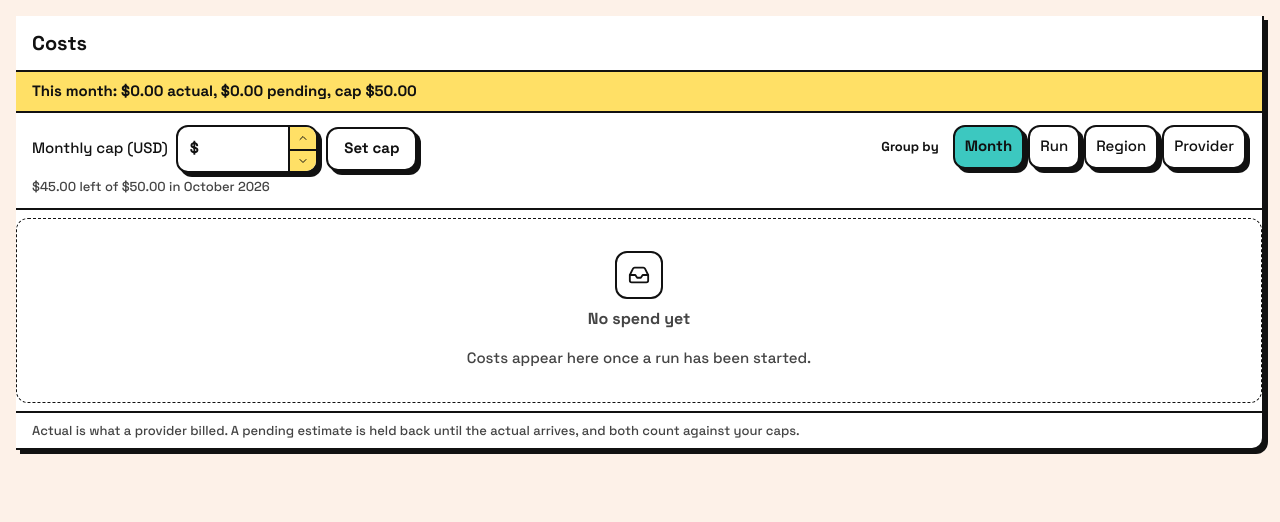
it: Costs page › validates the monthly cap like a run cap
Type "5000000" into the number field labelled "Monthly cap (USD)" at (244, 148), box [199,126,288,170]
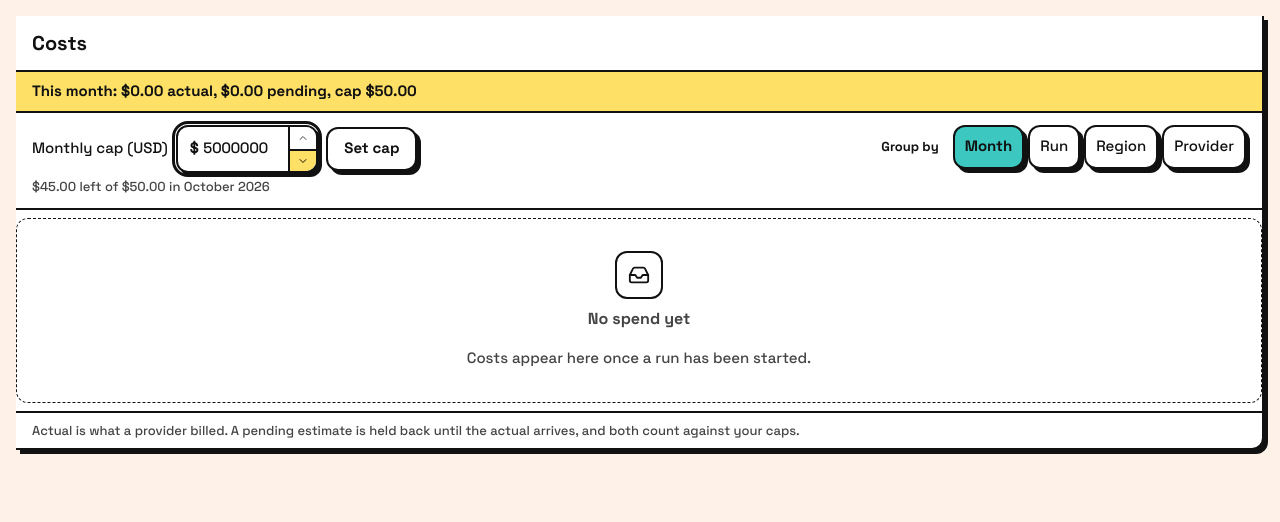
Click the button "Set cap" at (372, 148), box [326,126,418,170]
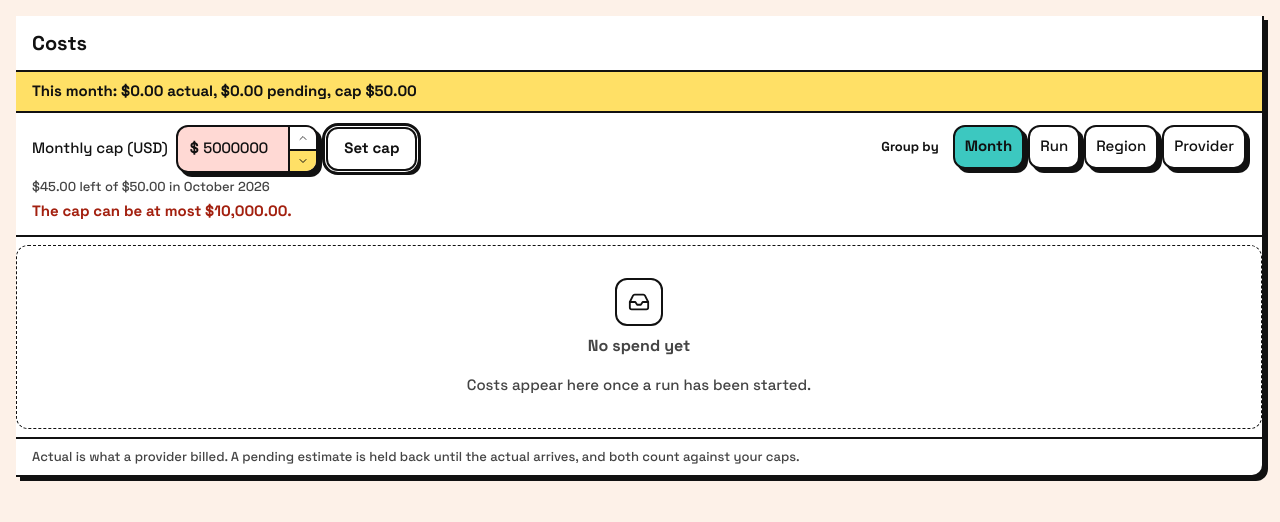
Expected: the text "The cap can be at most $10,000.00." is shown, [32,200,292,222]
Replace the text in the number field labelled "Monthly cap (USD)" with "0" at (244, 148), box [199,126,288,170]
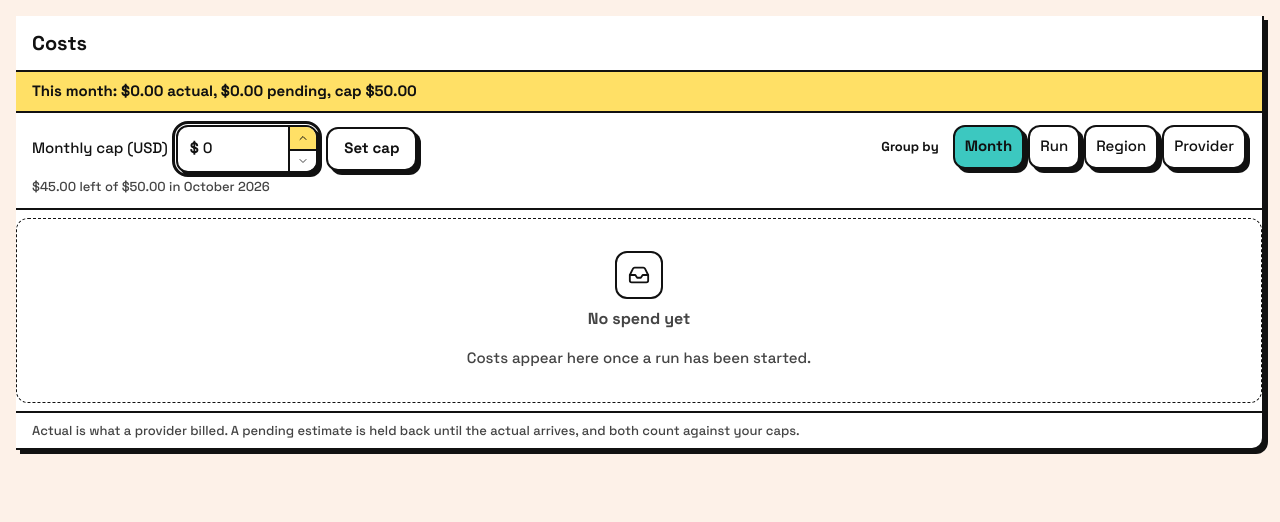
Click the button "Set cap" at (372, 148), box [326,126,418,170]
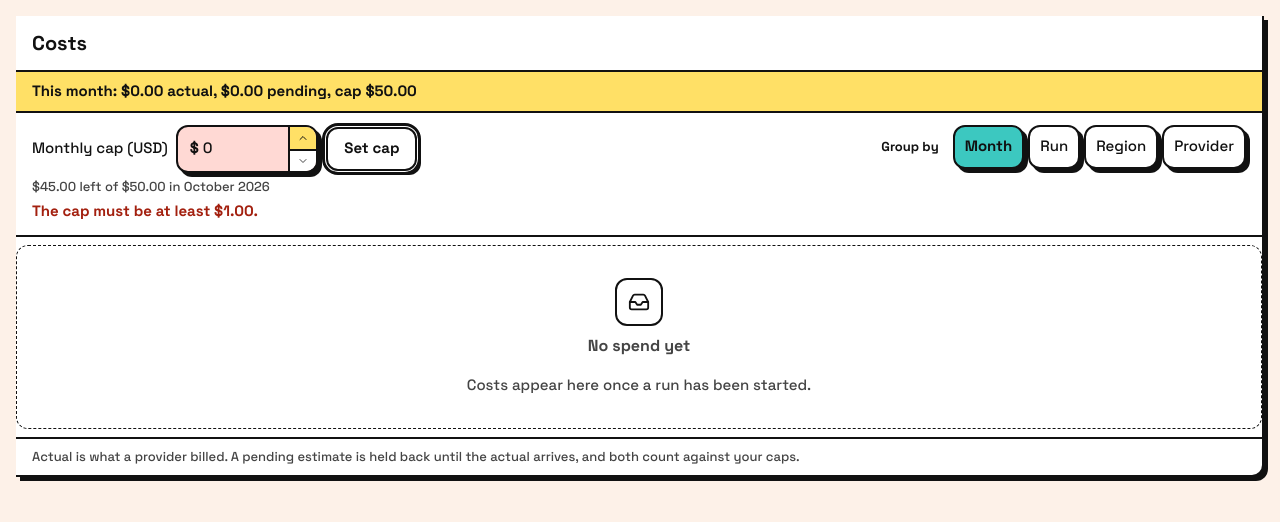
Expected: the text "The cap must be at least $1.00." is shown, [32,200,258,222]
Replace the text in the number field labelled "Monthly cap (USD)" with "12,5" at (244, 148), box [199,126,288,170]
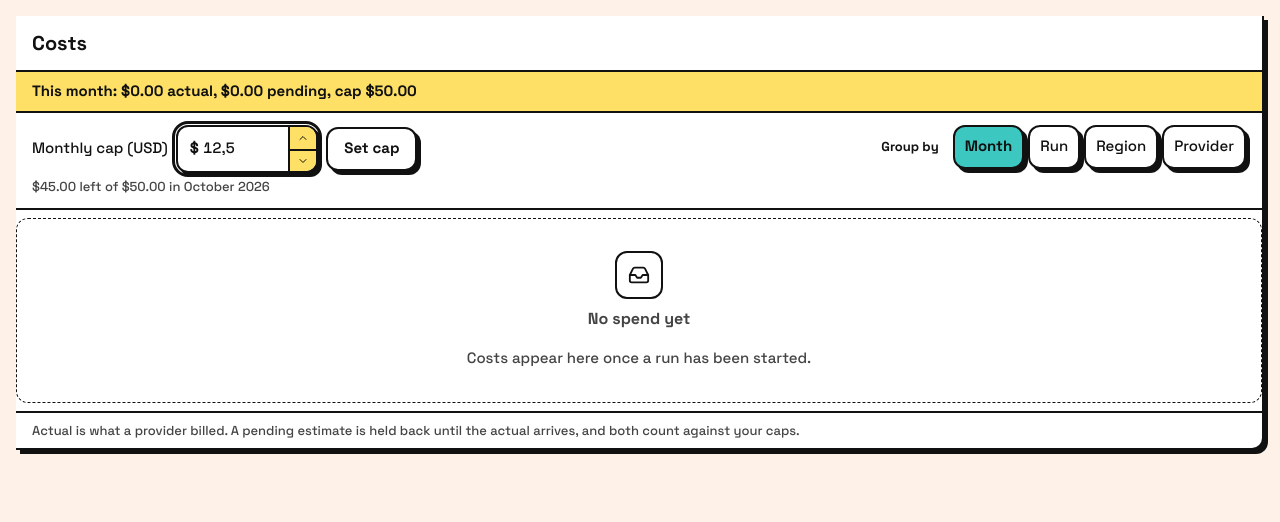
Click the button "Set cap" at (372, 148), box [326,126,418,170]
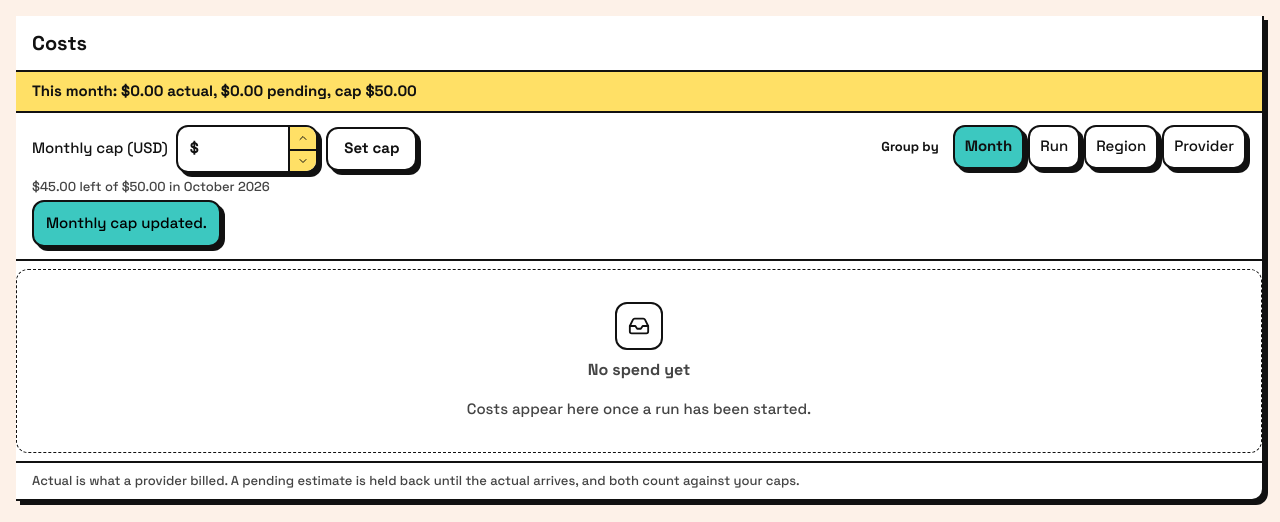
Expected: the text "Monthly cap updated." is shown, [32,200,221,246]
